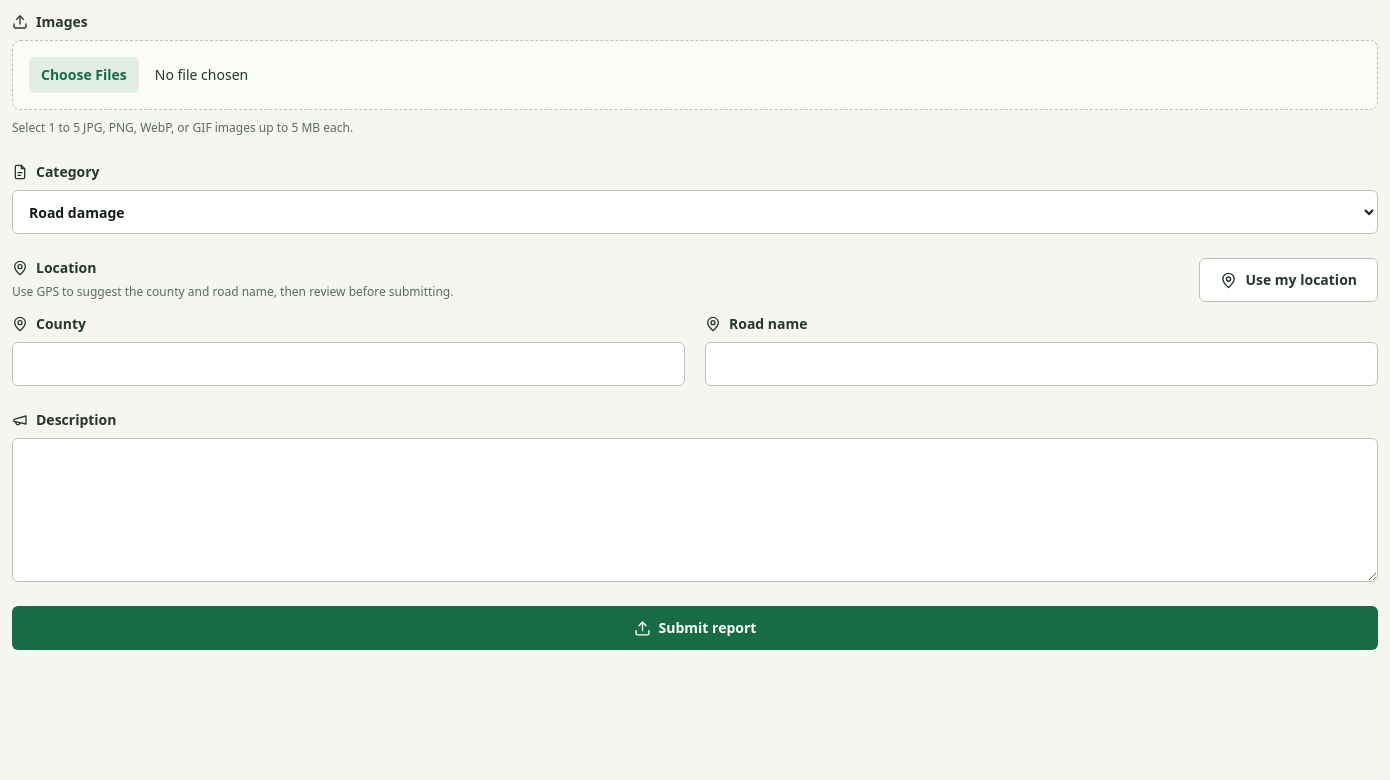
Scenario: ReportForm › requires an image before submitting
The image size is (1390, 780).
In the text box labelled "Description": (695, 510) 12,438 -> 1378,582, type " Large pothole near the junction. "
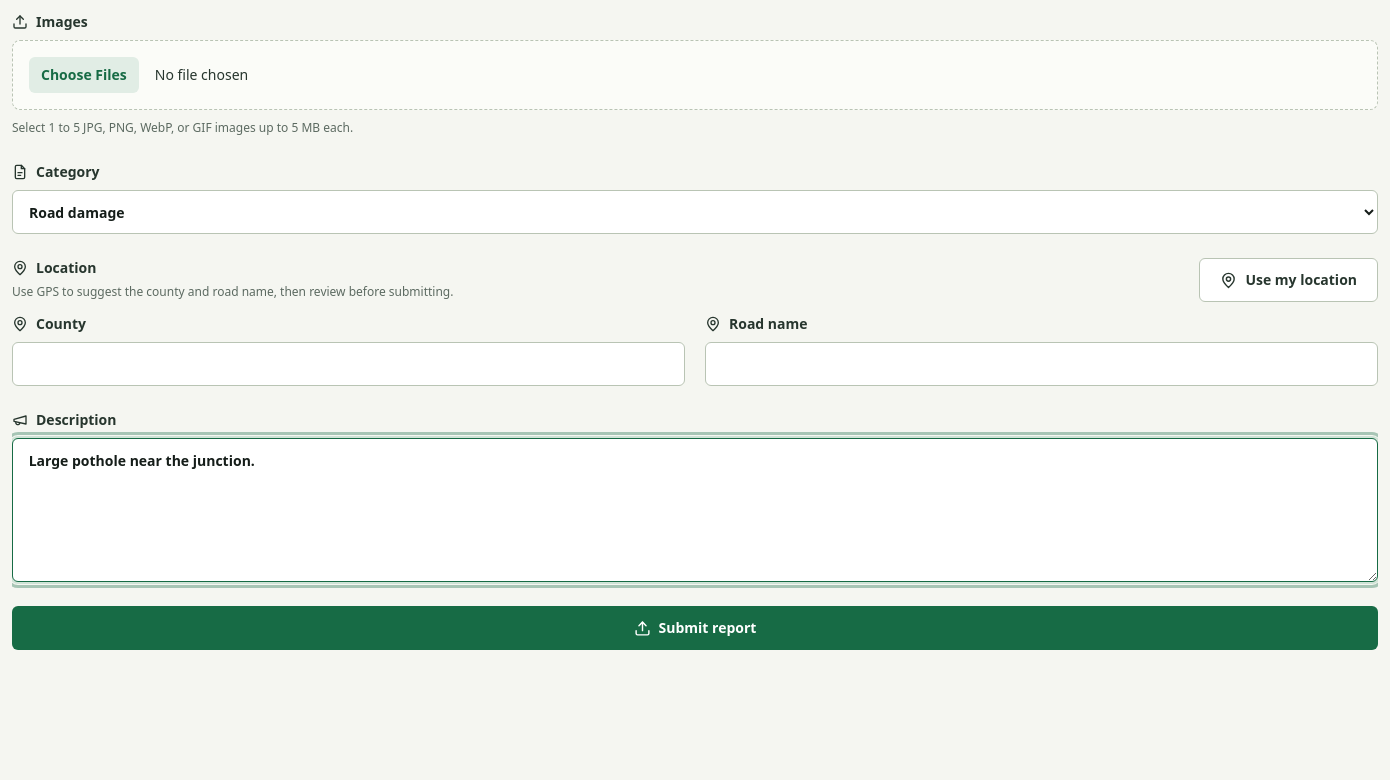
In the field labelled "County": (348, 364) 12,342 -> 685,386, type " Nairobi "
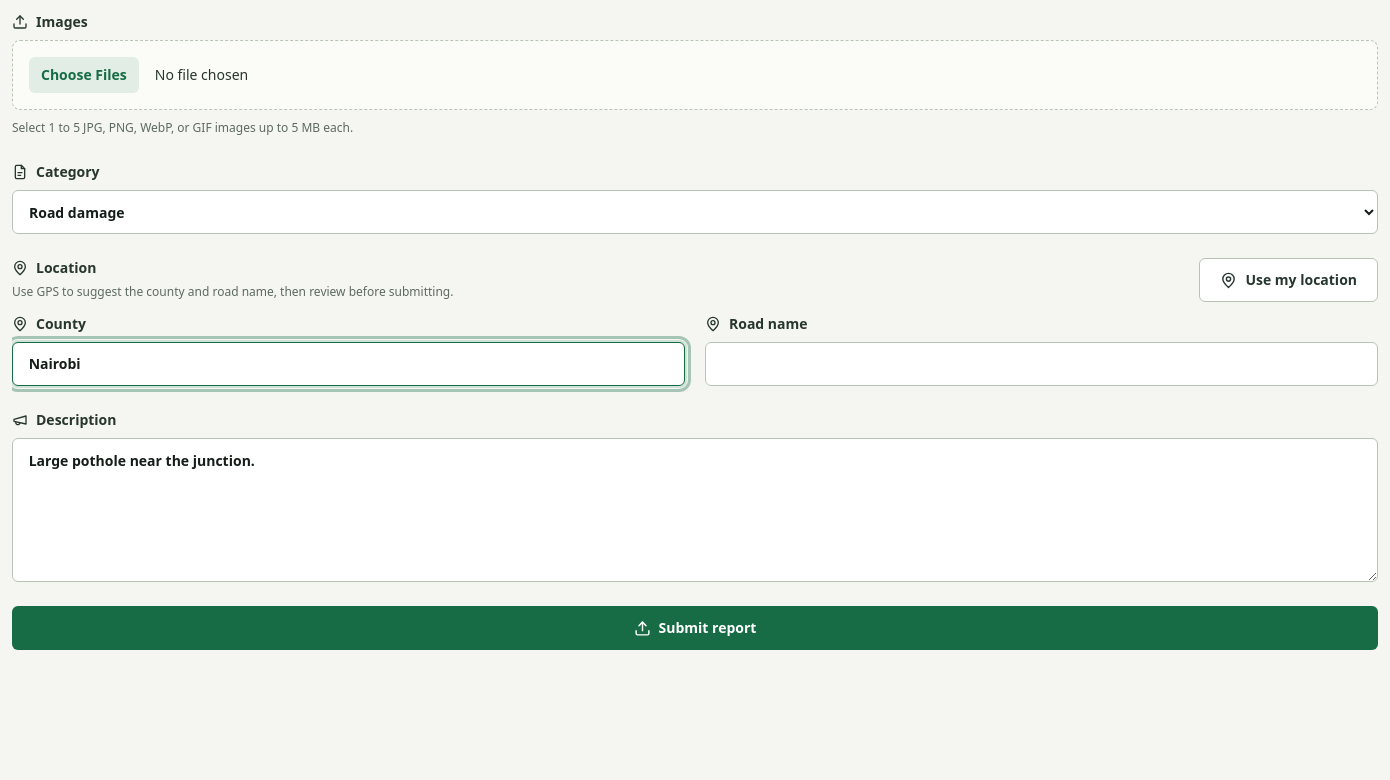
In the field labelled "Road name": (1042, 364) 705,342 -> 1378,386, type " Main Road "
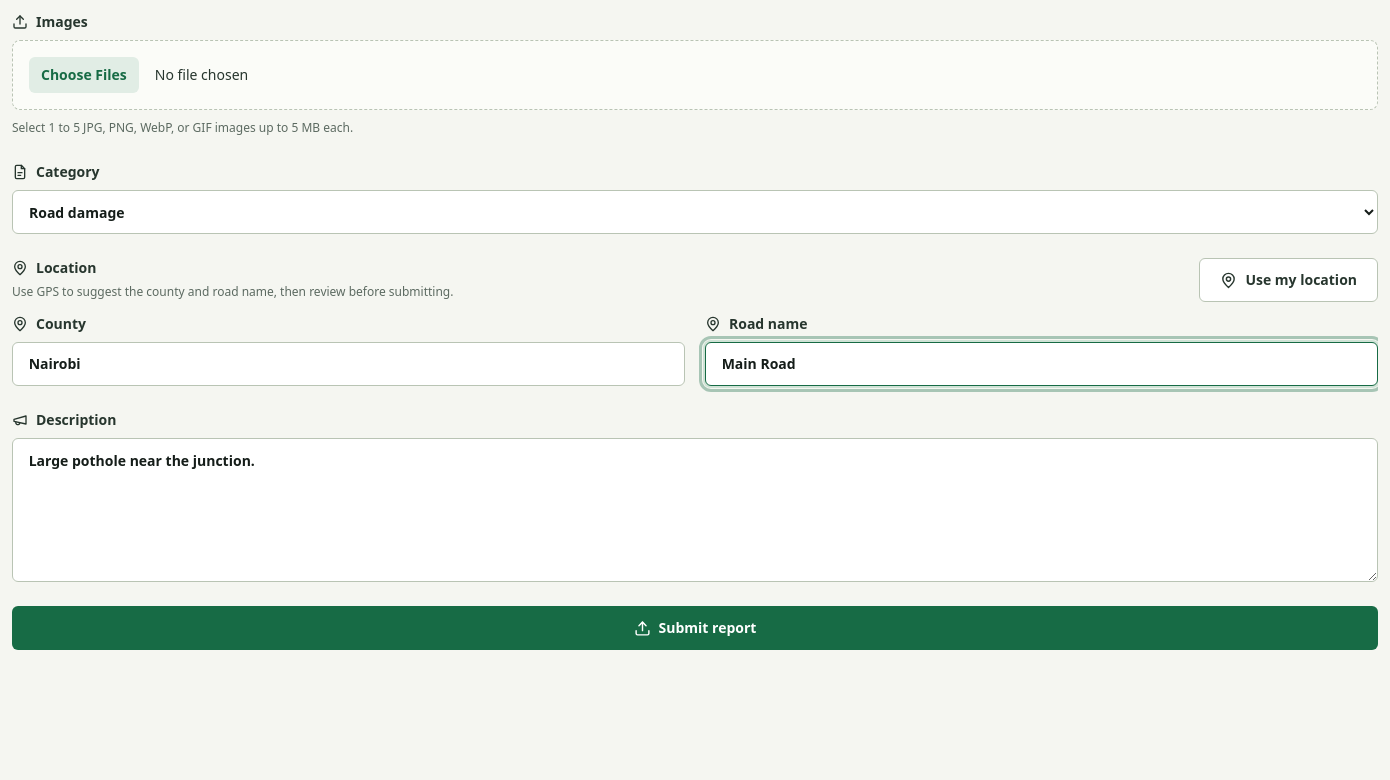
Click the button "Submit report": (695, 628) 12,606 -> 1378,650
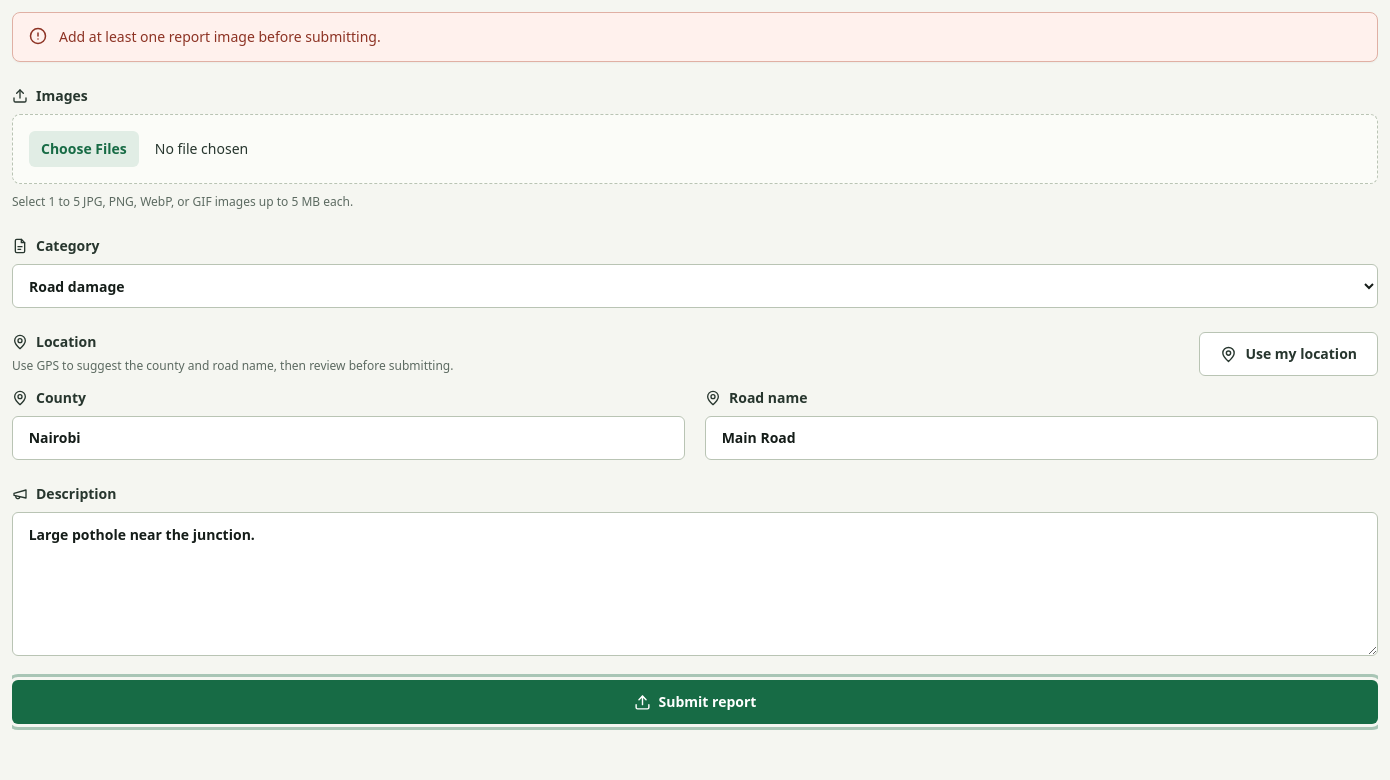
Expected: the text "Add at least one report image before submitting." is shown, 59,25 -> 381,49
